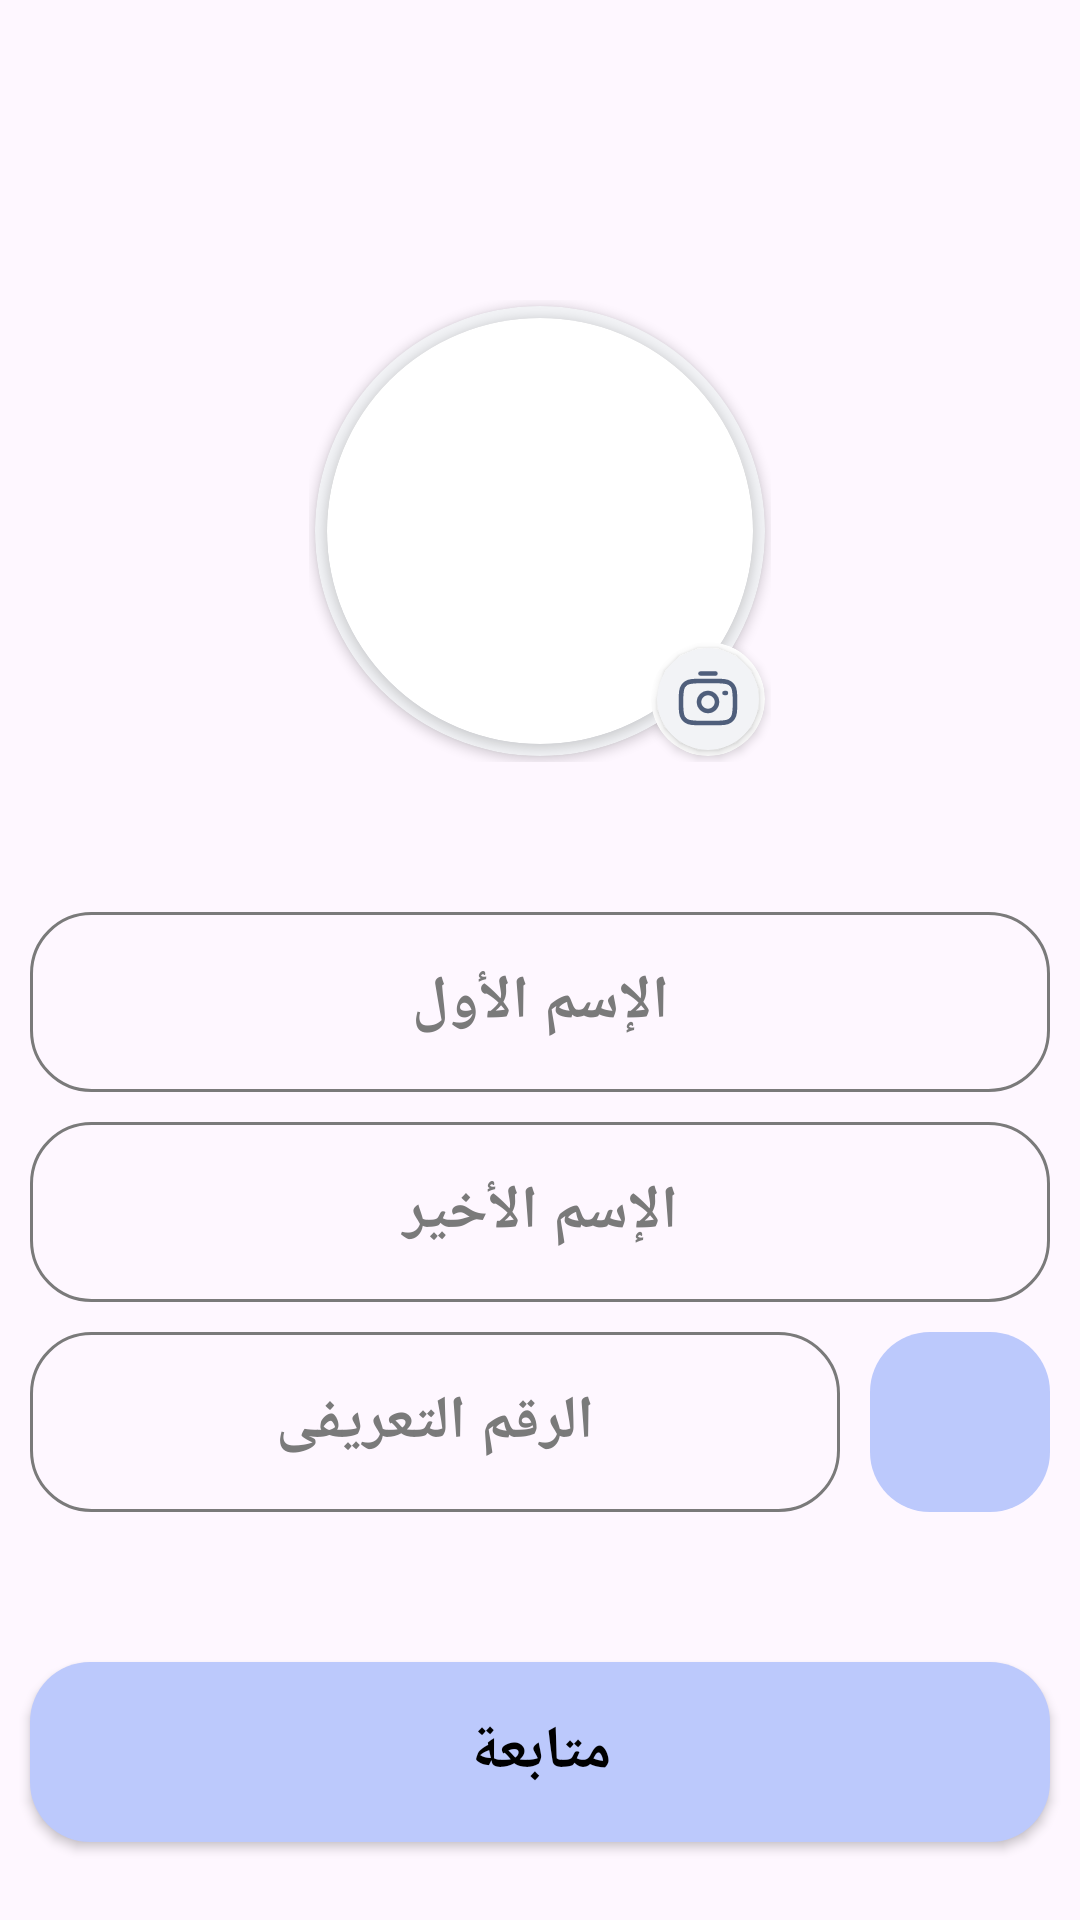

Locate icon controls on the screen. Image size 1080 x 1920, boxes as (x1, y1, x2, y2).
camera: (678, 671, 738, 726)
